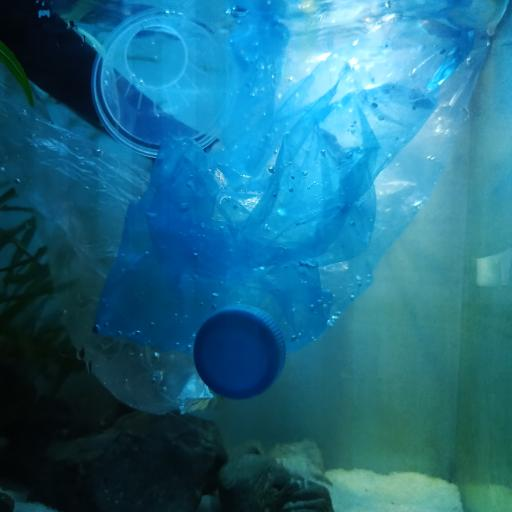bottle_cap: (194, 305, 285, 401)
mask: (0, 1, 219, 163)
plastic_bag: (94, 0, 500, 399), (0, 100, 308, 418)
plastic_cup: (94, 8, 234, 157)
